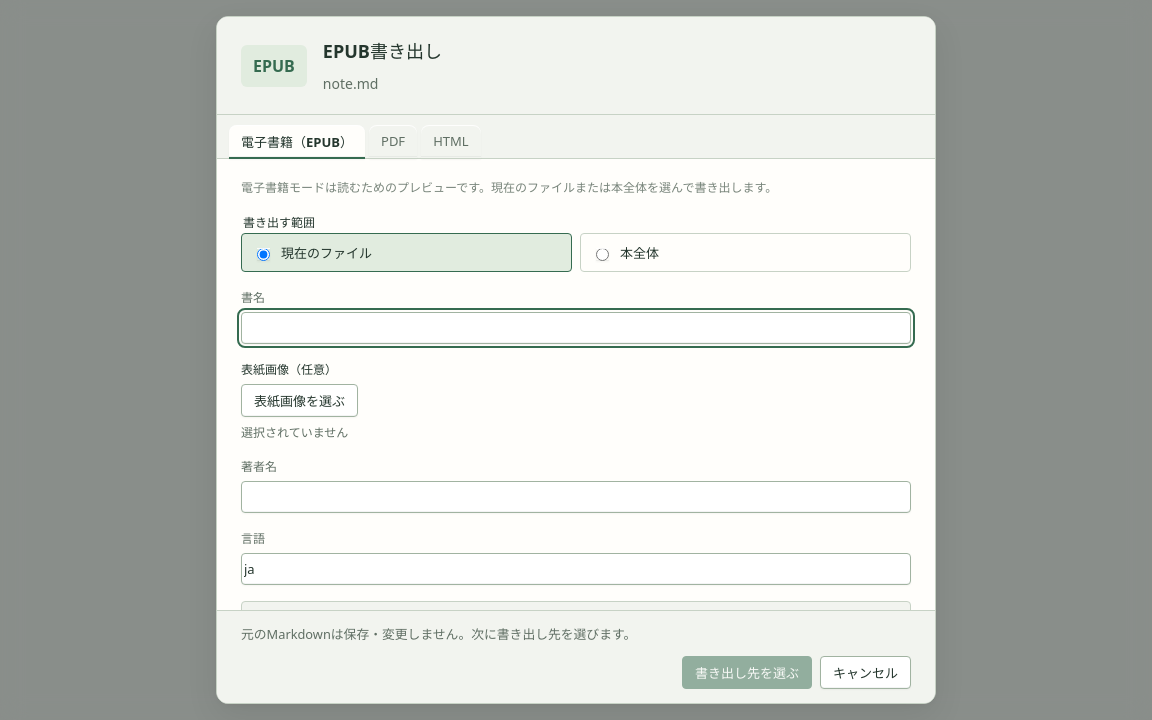
it: export format round trip (画面11) › keeps the entered settings and the export range when switching formats
EPUB: 書名・著者を入れ、「本全体」を選ぶ。
Type "葉桜の本" into the field labelled "書名" at [576, 328], box [241,312,911,344]
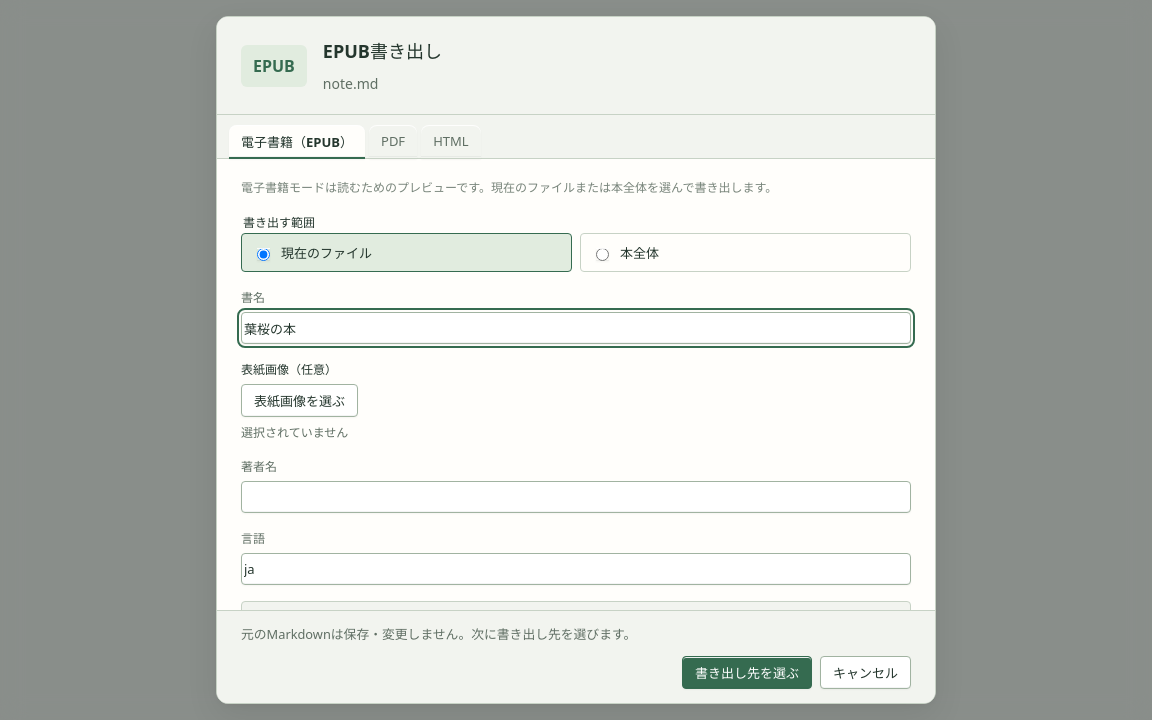
Type "藤原千花" into the field labelled "著者名" at [576, 497], box [241,481,911,513]
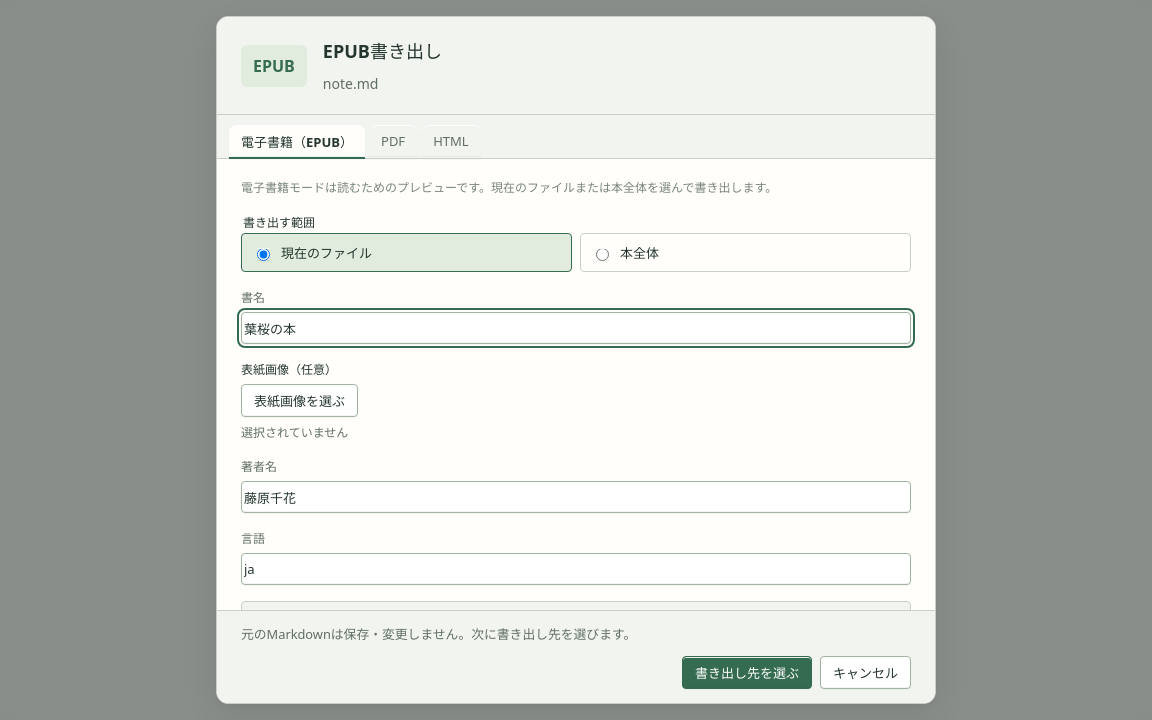
Click the radio button labelled "本全体" at [602, 254], box [596,248,609,260]
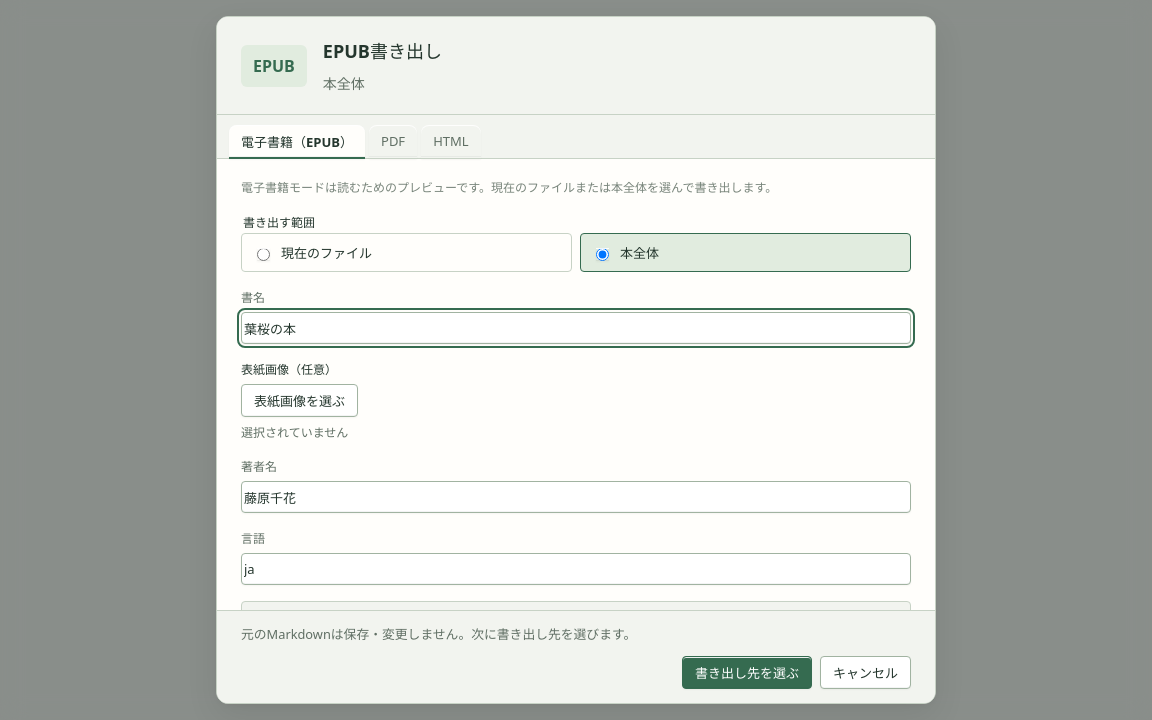
PDF へ切り替え（往路）。
Click the button "PDF" at [393, 142], box [369,125,417,159]
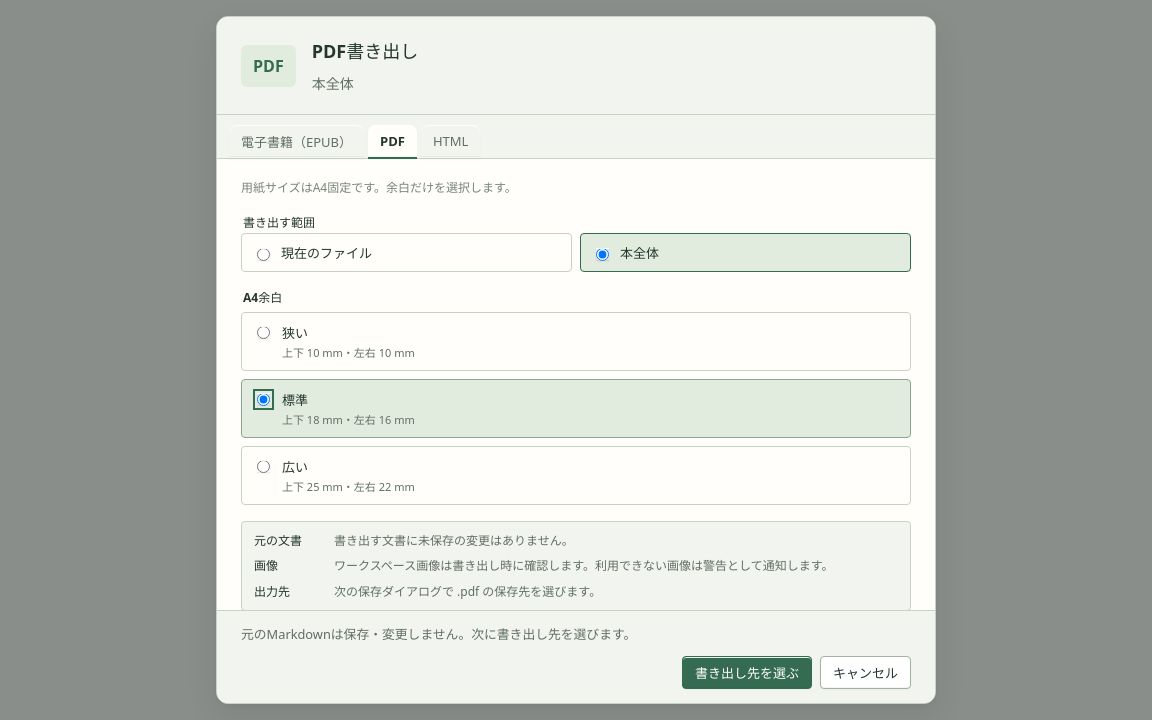
expect the dialog is shown: met, box [216,16,936,704]
expect the text labelled "書名" is gone: met
EPUB へ戻る（復路）。入力と対象が残っている。
Click the button "電子書籍（EPUB）" at [296, 142], box [229,125,364,159]
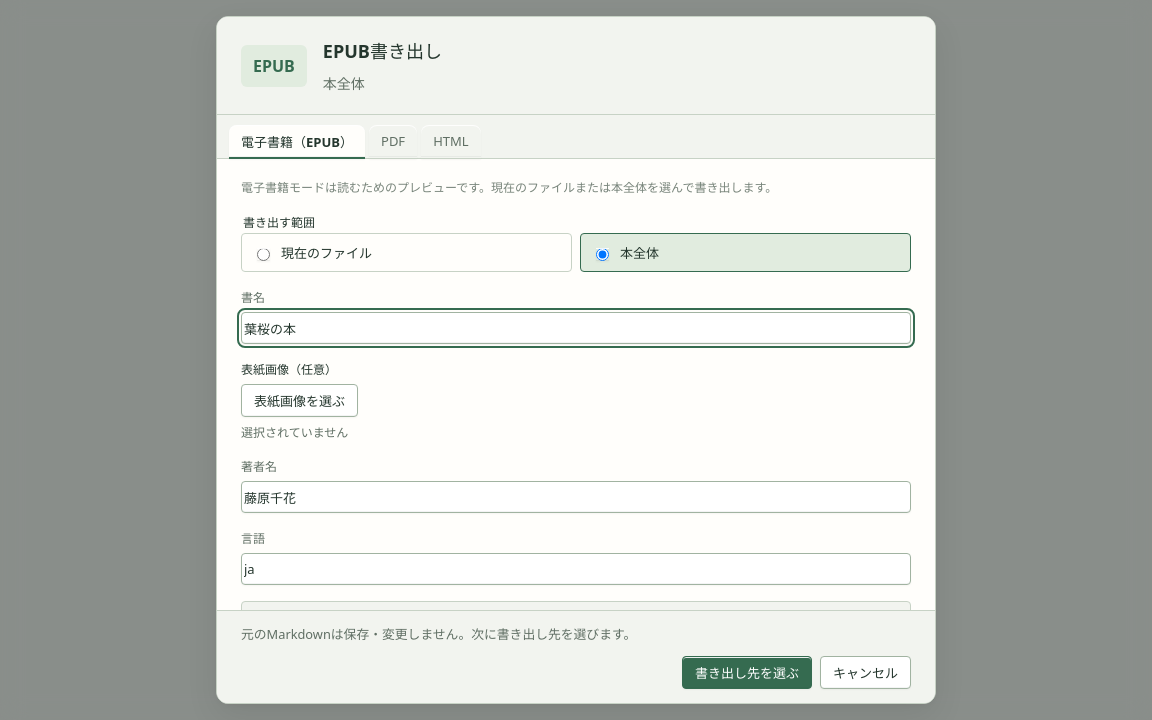
expect the radio button labelled "本全体" is checked: met, box [596,248,609,260]
expect the field labelled "書名" holds "葉桜の本": met, box [241,312,911,344]
expect the field labelled "著者名" holds "藤原千花": met, box [241,481,911,513]
